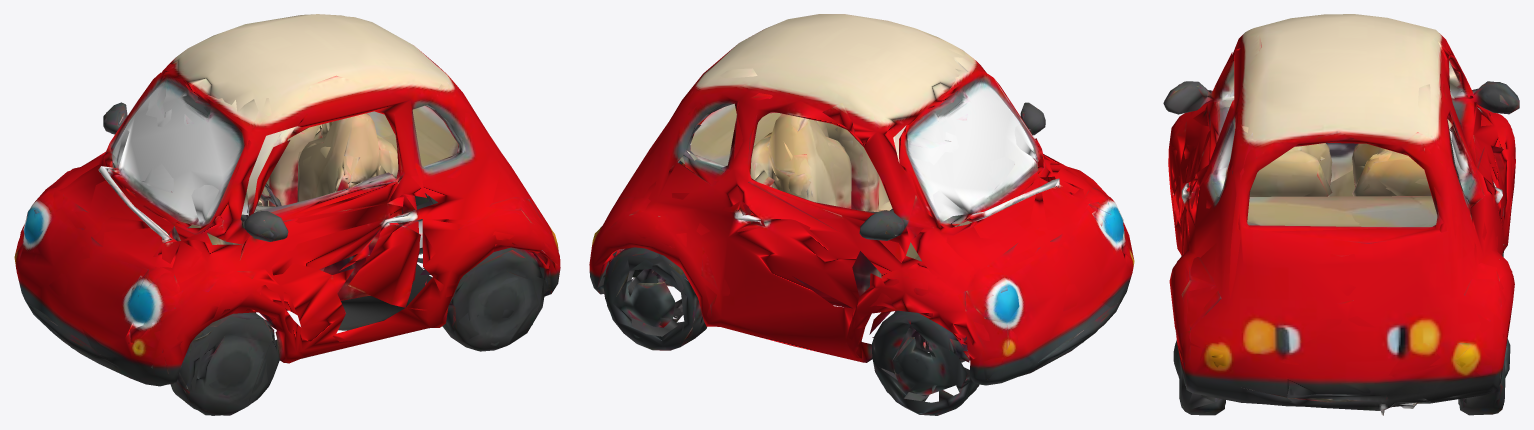
File: car_a.glb
The picture shows the model from 3 angles, left to right: view 1: azimuth 30°, elevation 25°; view 2: azimuth 150°, elevation 25°; view 3: azimuth 270°, elevation 25°; orthographic projection. The views are drawn at different scales.
Visible parts, largest first — view 1: Mesh1.0; view 2: Mesh1.0; view 3: Mesh1.0.
Part boxes in pixels (left/top/right/bottom): Mesh1.0: left=14, top=14, right=560, bottom=415; Mesh1.0: left=589, top=14, right=1134, bottom=415; Mesh1.0: left=1163, top=14, right=1519, bottom=415.
Size of the model in its own units: 1.89 by 1.15 by 1.21.
Materials: 1 (1 with a texture image).
